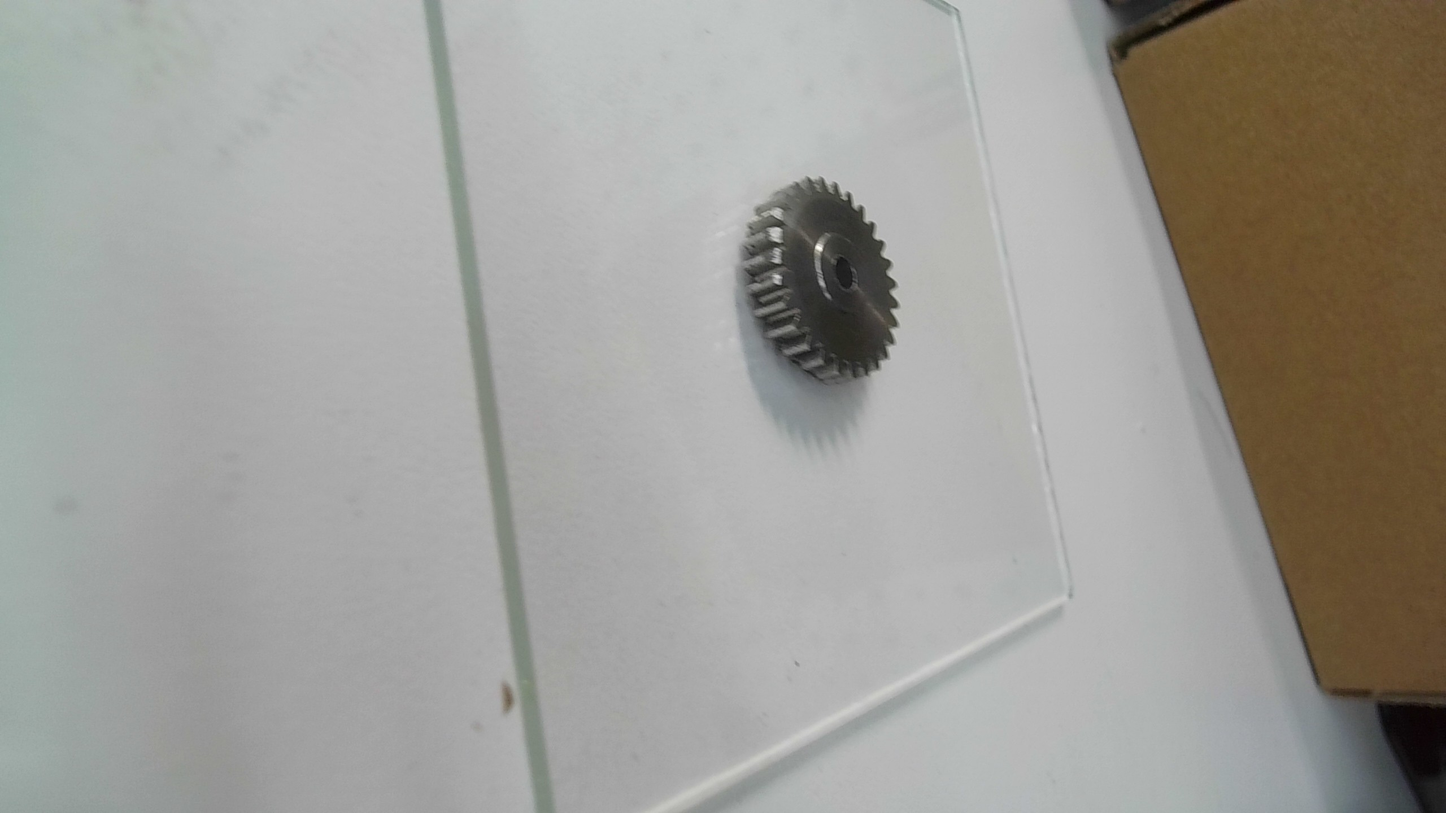gear: (742, 174, 904, 384)
